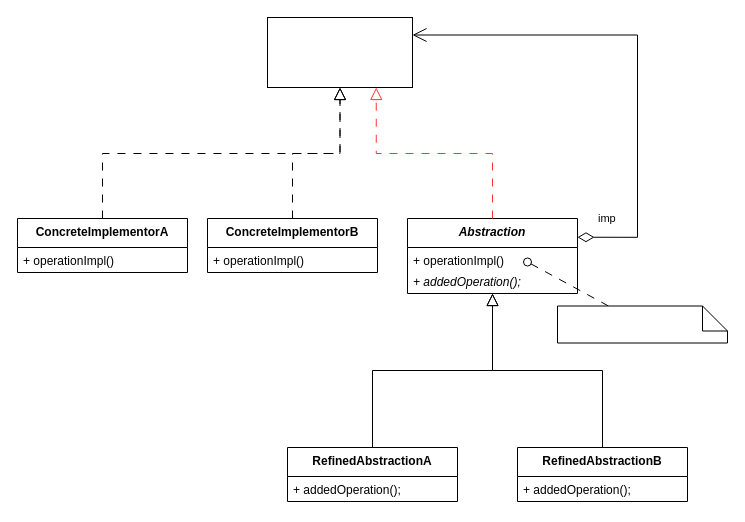
The diagram is 745 pixels wide and 522 high, and some of its shapes have lost their labels. Each missing label, with the centre of its shape:
"<<Interface>> Implementor + operationImpl()" belongs at point (339, 52).
"this.imp.operationImpl() this.addedOperation():" belongs at point (642, 324).
